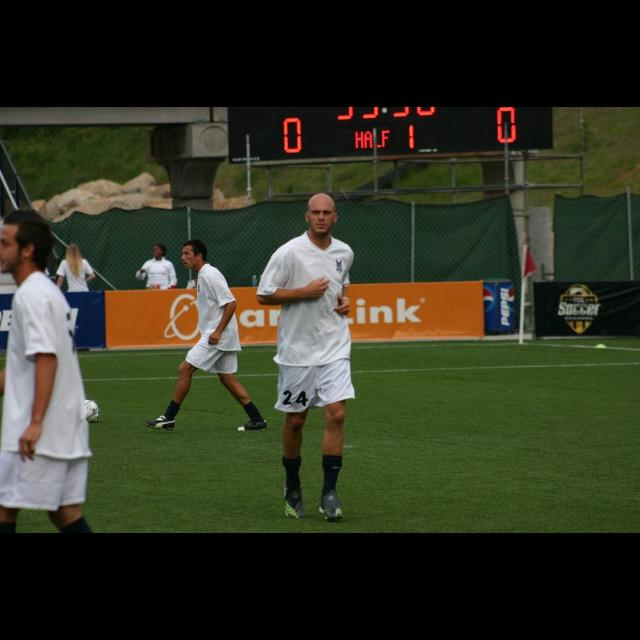Football: (86, 400, 98, 422)
